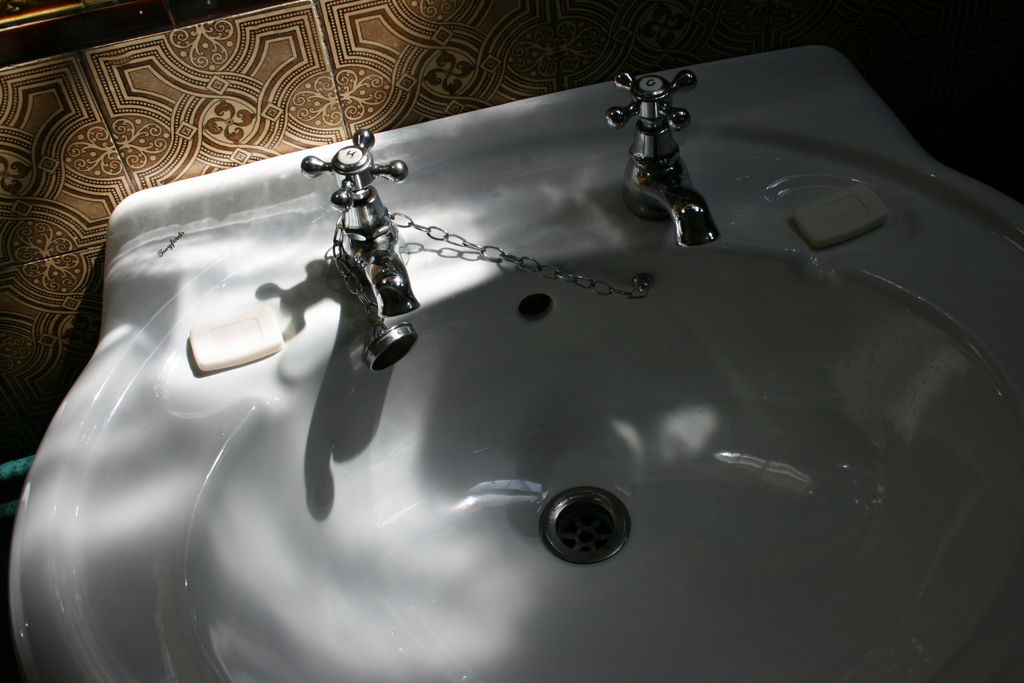tap: (602, 62, 721, 253), (302, 130, 412, 317)
